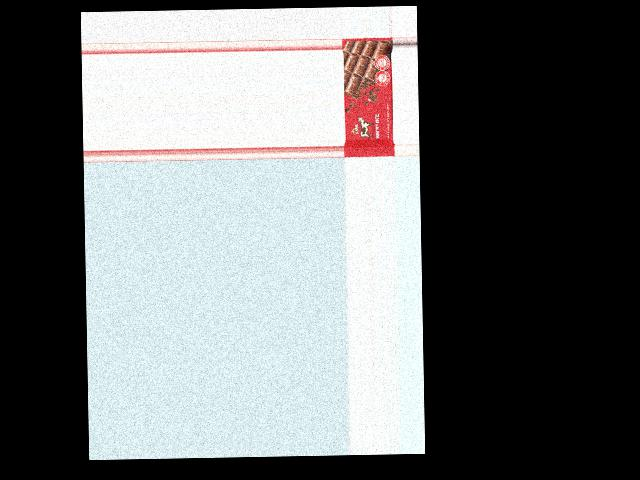chocolate: (342, 37, 395, 156)
